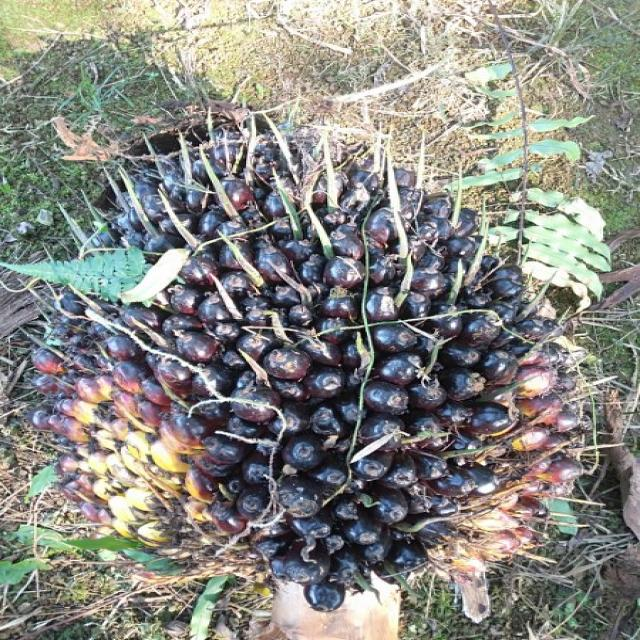fraksi 00: (11, 99, 640, 622)
